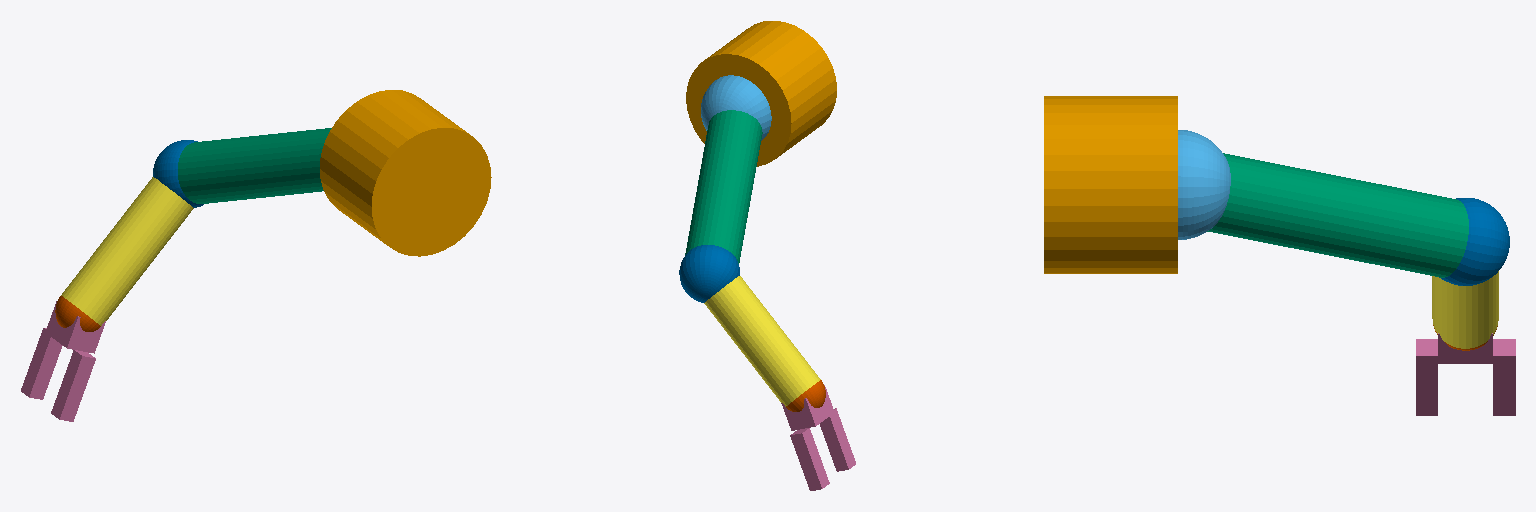
URDF robot description (a_robot_arm_8):
<?xml version="1.0"?>
<robot name="a_robot_arm_8">
  <link name="base">
    <visual>
      <geometry>
        <mesh filename="obj_parts/group_output/base.obj" />
      </geometry>
    </visual>
  </link>
  <link name="shoulder">
    <visual>
      <geometry>
        <mesh filename="obj_parts/group_output/shoulder.obj" />
      </geometry>
    </visual>
  </link>
  <link name="upper_arm">
    <visual>
      <geometry>
        <mesh filename="obj_parts/group_output/upper_arm.obj" />
      </geometry>
    </visual>
  </link>
  <link name="forearm">
    <visual>
      <geometry>
        <mesh filename="obj_parts/group_output/forearm.obj" />
      </geometry>
    </visual>
  </link>
  <link name="elbow_joint">
    <visual>
      <geometry>
        <mesh filename="obj_parts/group_output/elbow_joint.obj" />
      </geometry>
    </visual>
  </link>
  <link name="wrist_joint">
    <visual>
      <geometry>
        <mesh filename="obj_parts/group_output/wrist_joint.obj" />
      </geometry>
    </visual>
  </link>
  <link name="end_effector">
    <visual>
      <geometry>
        <mesh filename="obj_parts/group_output/end_effector.obj" />
      </geometry>
    </visual>
  </link>
  <joint name="base_yaw" type="continuous">
    <parent link="base" />
    <child link="shoulder" />
    <axis xyz="0 1 0" />
  </joint>
  <joint name="shoulder_pitch" type="revolute">
    <parent link="shoulder" />
    <child link="upper_arm" />
    <axis xyz="1 0 0" />
    <limit lower="0.0" upper="2.62" effort="15" velocity="1.5" />
  </joint>
  <joint name="upper_arm_to_elbow_sphere" type="fixed">
    <parent link="upper_arm" />
    <child link="elbow_joint" />
    
    
  </joint>
  <joint name="elbow_flex" type="revolute">
    <parent link="elbow_joint" />
    <child link="forearm" />
    <axis xyz="0 0 1" />
  </joint>
  <joint name="wrist_roll" type="continuous">
    <parent link="forearm" />
    <child link="wrist_joint" />
    <axis xyz="1 0 0" />
    
  </joint>
  <joint name="wrist_pitch" type="revolute">
    <parent link="wrist_joint" />
    <child link="end_effector" />
    <axis xyz="0 1 0" />
    <limit lower="-1.05" upper="1.05" effort="10" velocity="2.0" />
  </joint>
</robot>

--- Render facts (derived) ---
Views: 3 orthographic renders of the robot side by side, from view 1: azimuth 30°, elevation 25°; view 2: azimuth 150°, elevation 25°; view 3: azimuth 270°, elevation 25°.
Robot: a_robot_arm_8 — 7 links, 6 joints (3 revolute, 2 continuous, 1 fixed); root link base; default pose: all joints at 0.
Visible links, largest first — view 1: base, upper_arm, forearm, end_effector, elbow_joint, wrist_joint; view 2: base, upper_arm, forearm, end_effector, elbow_joint, shoulder, wrist_joint; view 3: base, upper_arm, shoulder, end_effector, forearm, elbow_joint.
Link boxes in pixels (x1,y1,x2,y2): base: (320, 90, 491, 256); upper_arm: (178, 128, 331, 203); forearm: (61, 177, 193, 325); end_effector: (21, 301, 105, 421); elbow_joint: (153, 140, 203, 207); wrist_joint: (55, 296, 100, 331); base: (686, 21, 836, 166); upper_arm: (685, 110, 762, 263); forearm: (704, 276, 820, 406); end_effector: (781, 385, 855, 490); elbow_joint: (679, 245, 739, 302); shoulder: (701, 75, 771, 140); wrist_joint: (786, 380, 825, 411); base: (1044, 96, 1177, 273); upper_arm: (1207, 153, 1468, 277); shoulder: (1178, 130, 1230, 239); end_effector: (1416, 333, 1515, 415); forearm: (1432, 271, 1498, 348); elbow_joint: (1439, 198, 1509, 285).
Size in the robot's own frame: 1.91 by 2.12 by 2.21 metres.
Meshes: 7 distinct files referenced, 7 mesh visuals loaded (7 OBJ).
